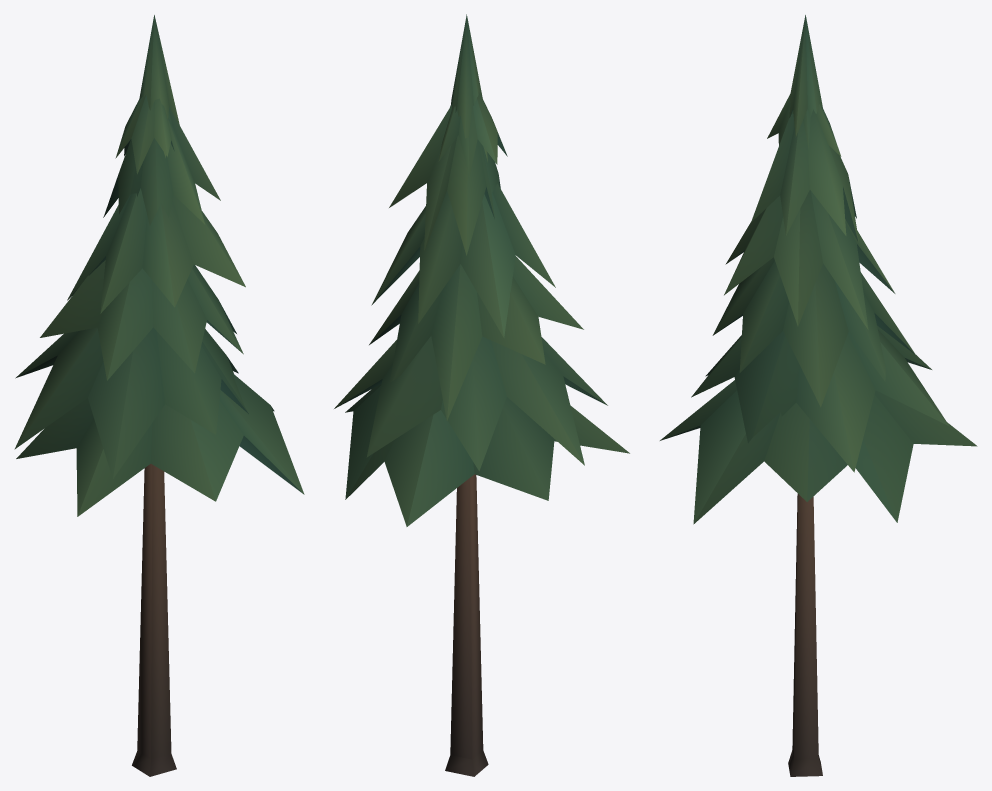
The model's file is pine_tall_b_lod1.glb.
3 views of the same model, side by side, from view 1: azimuth 30°, elevation 25°; view 2: azimuth 150°, elevation 25°; view 3: azimuth 270°, elevation 25° (orthographic).
Parts seen in each view (by area): view 1: pine_tall_b_lod1; view 2: pine_tall_b_lod1; view 3: pine_tall_b_lod1.
Part boxes in pixels (x1,y1,x2,y2): pine_tall_b_lod1: (14, 15, 304, 776); pine_tall_b_lod1: (334, 14, 629, 776); pine_tall_b_lod1: (660, 15, 977, 776).
Bounding box in the file's own units: 6.09 × 17.5 × 6.69.
